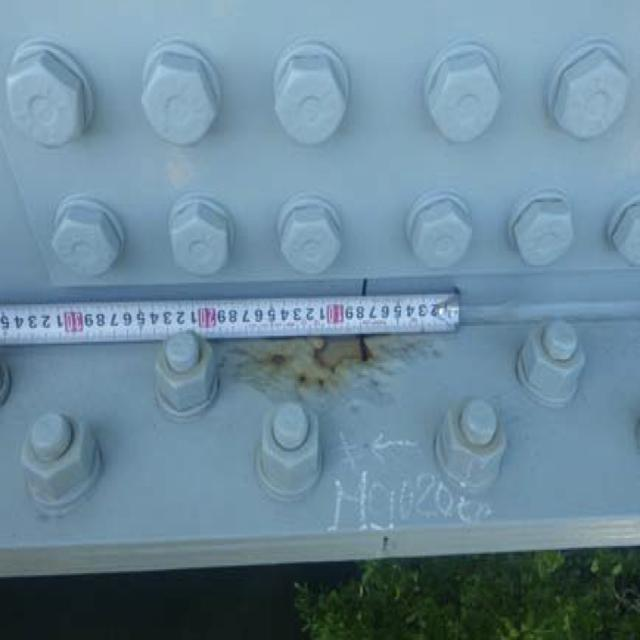corrosion: (205, 324, 408, 397)
